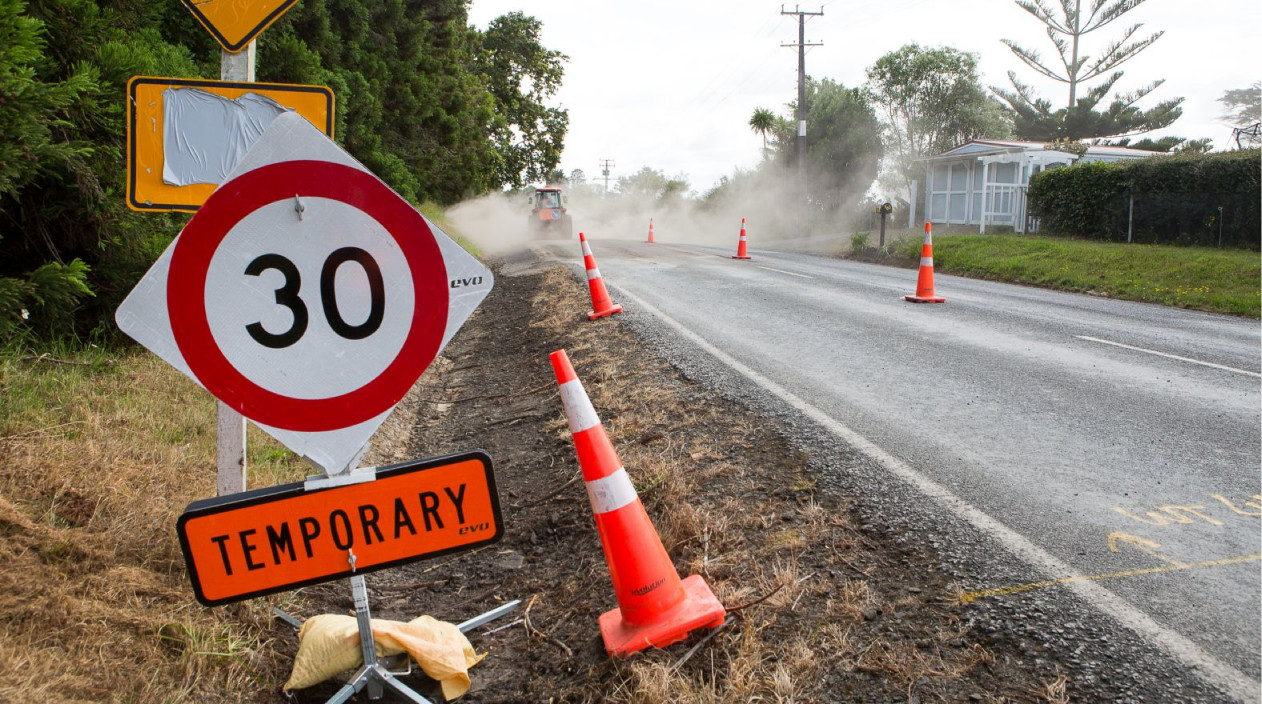Road_cone: (537, 346, 736, 659), (562, 229, 629, 321), (907, 220, 954, 313), (729, 210, 755, 263), (641, 214, 660, 244)
Tree: (979, 1, 1171, 156)
